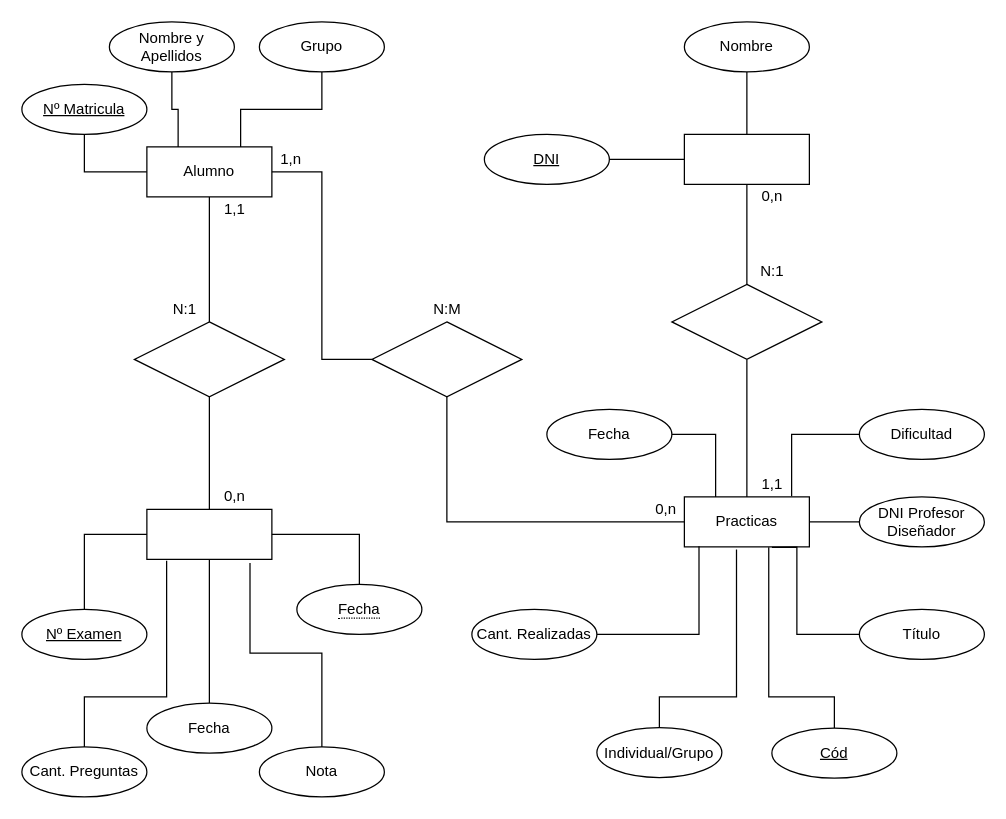
This 1006x819 diagram has some shape labels left out. Here are the shapes that lost their labels. From the top down, the box of each, then its label:
(683, 133, 809, 184): Profesor
(671, 283, 822, 359): Diseñar
(133, 321, 284, 397): Examinar
(371, 321, 522, 397): Realizar
(146, 508, 272, 559): Exámenes Escritos
